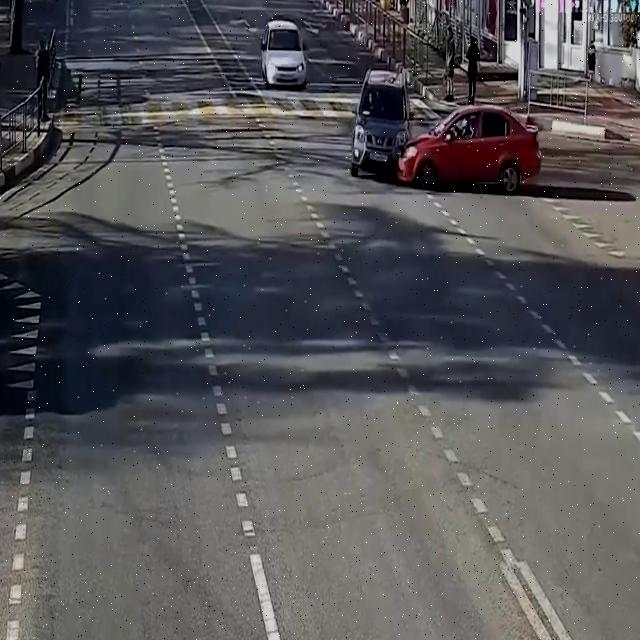accident: (345, 54, 551, 205)
